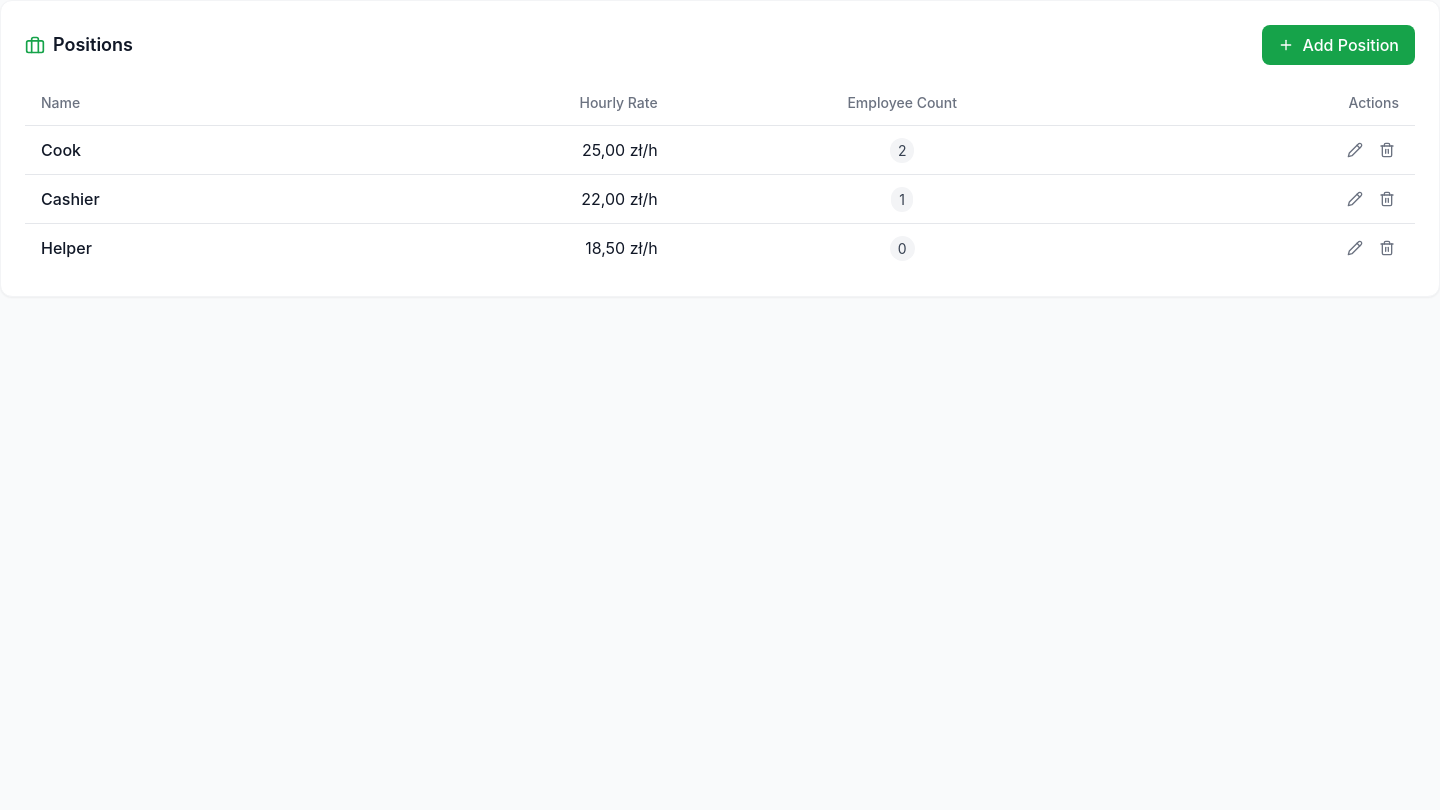
Test: PositionsSection › Create Position › disables save button while loading
This screenshot has width=1440, height=810.
Expected: the text "Cook" is shown, top-left (25, 126), bottom-right (318, 174)
Step 1. Click the button "Add Position" → x=1339, y=45, box top-left (1262, 25), bottom-right (1415, 65)
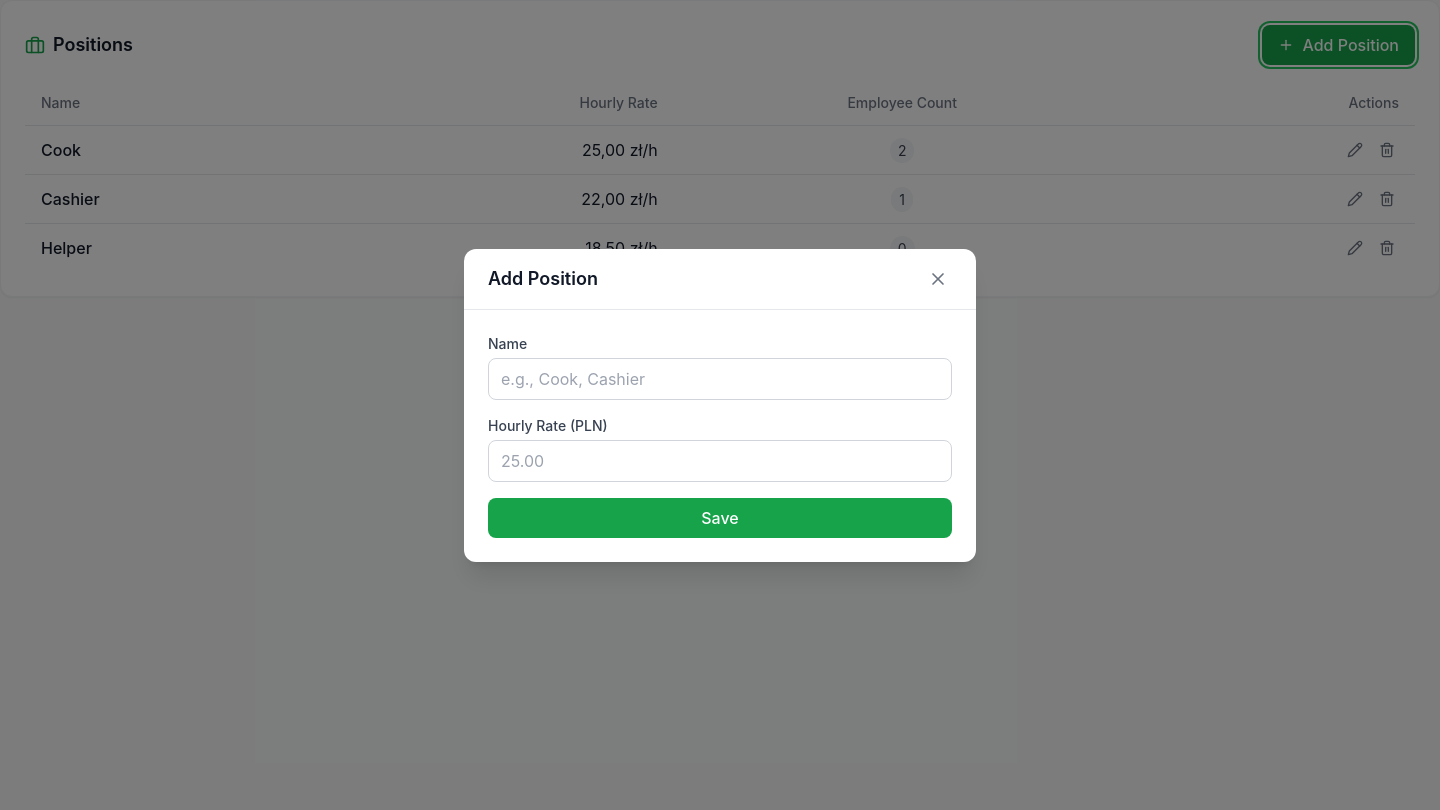
Expected: the dialog is shown
Step 2. Type "Manager" into the field with placeholder "e.g., Cook, Cashier" → x=720, y=378, box top-left (488, 358), bottom-right (952, 400)
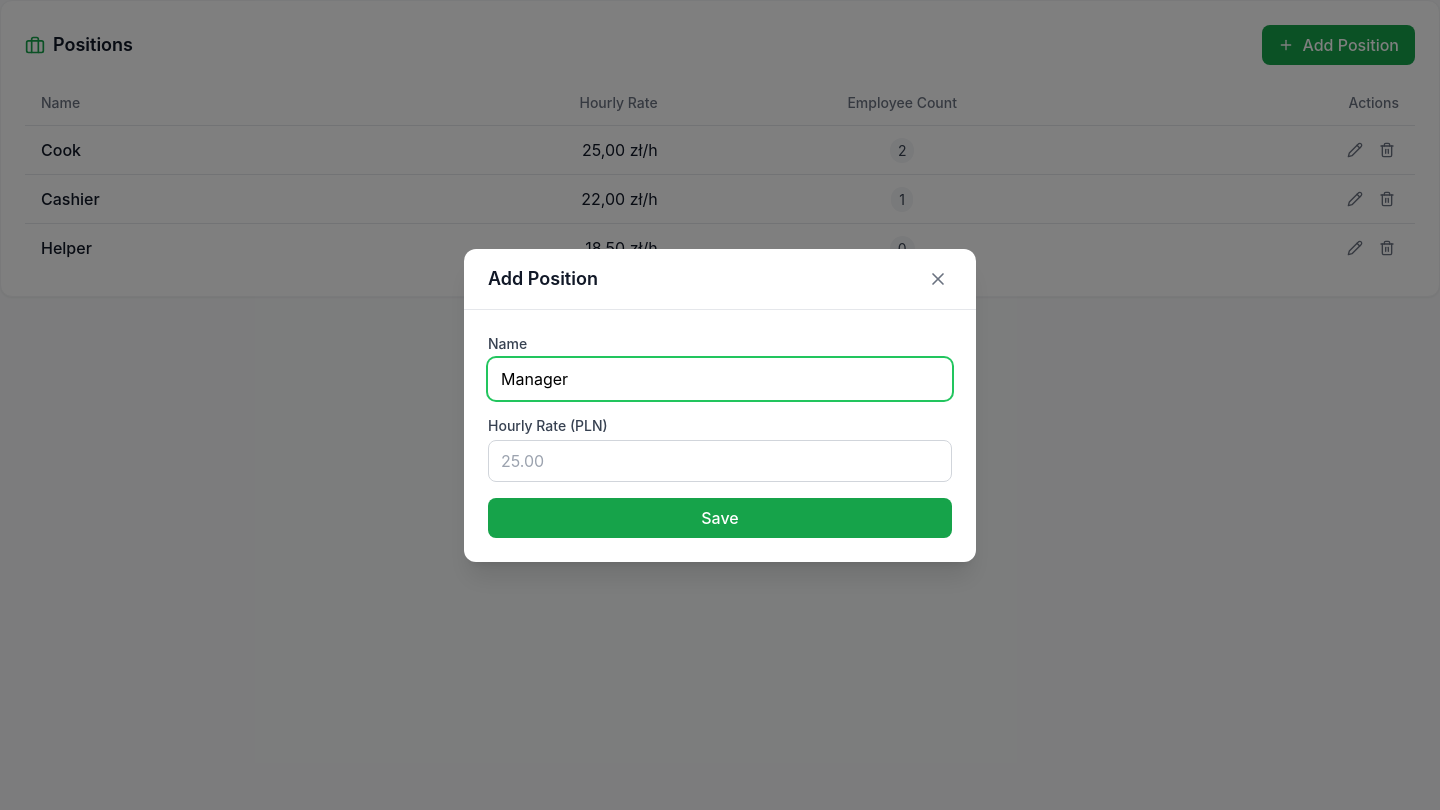
Step 3. Type "35.00" into the number field with placeholder "25.00" → x=720, y=460, box top-left (488, 440), bottom-right (952, 482)
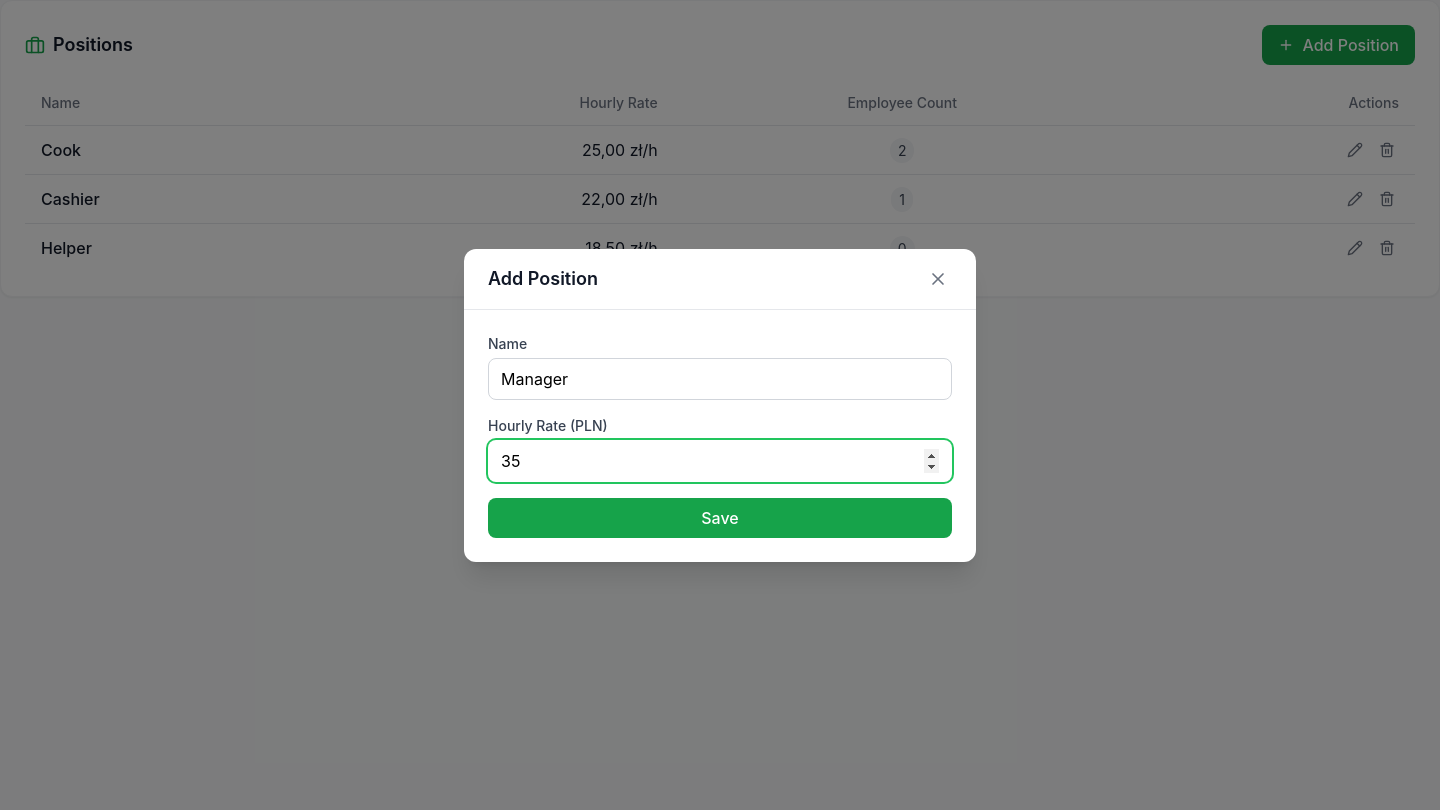
// Submit form
Step 4. Click the button "Save" → x=720, y=518, box top-left (488, 498), bottom-right (952, 538)
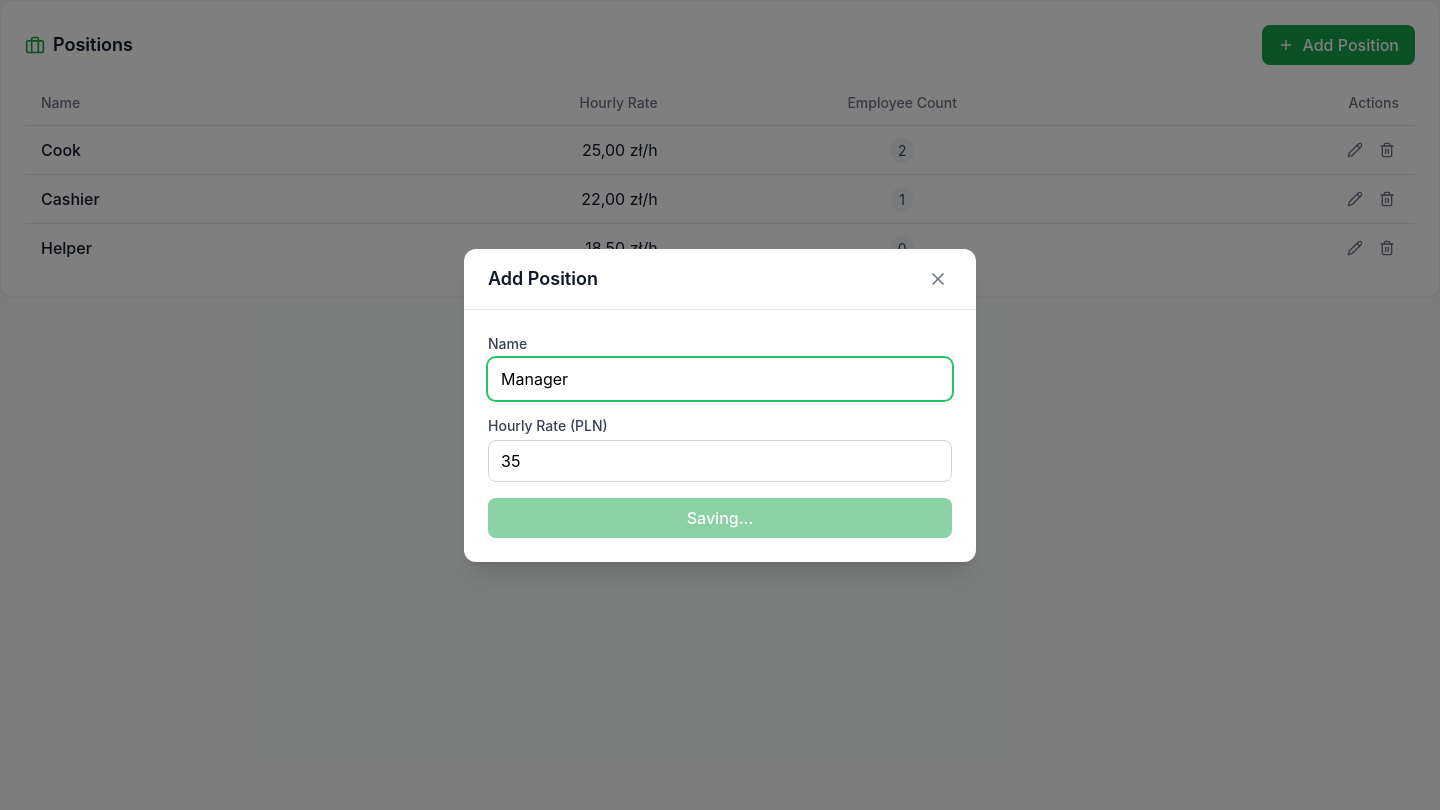
Expected: the button "Saving..." is disabled, top-left (488, 498), bottom-right (952, 538)
